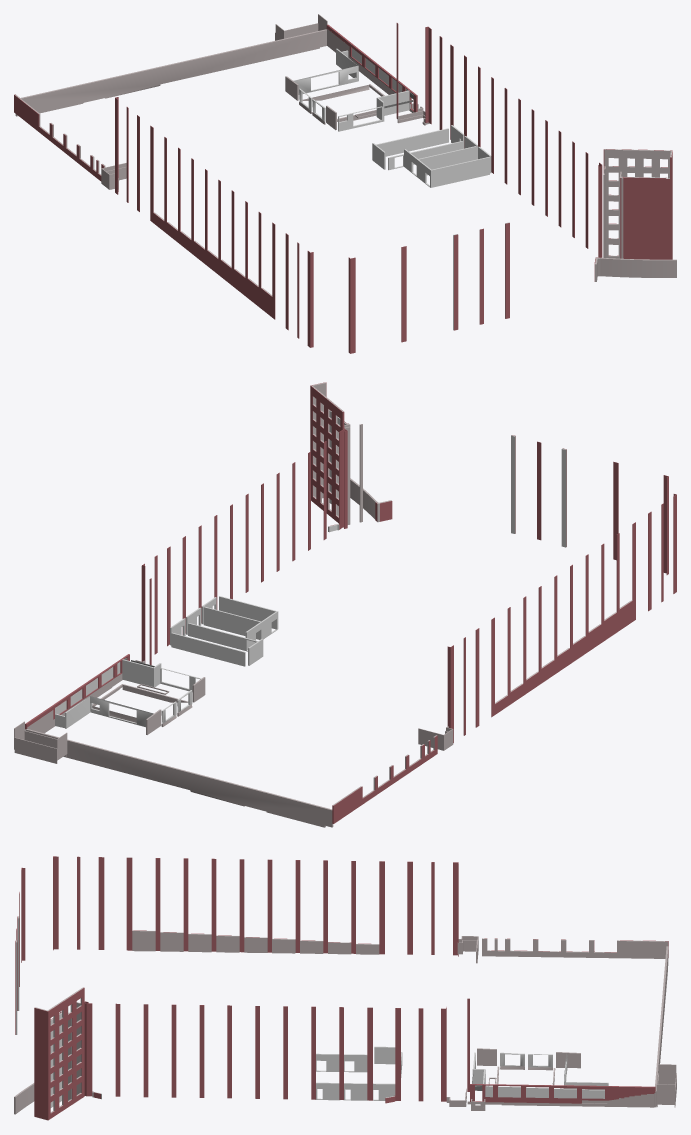
Rendered from 20160125Autodesk_Hospital_Parking Garage_2015_Exist_Garage_-_Ground_Level_IfcWallStandardCase.dae.
3 views of the same model, one above another, from view 1: azimuth 30°, elevation 25°; view 2: azimuth 150°, elevation 25°; view 3: azimuth 270°, elevation 25° (orthographic). The views are drawn at different scales.
Parts seen in each view (by area): view 1: 0GjpF04mX1K8P$TdM8fU7l, 302LR4o954qwRBxpGktIB7, 3yTjO8CpH8GR5SljxLVDxB, 3yTjO8CpH8GR5SljxLVEQd, 0GjpF04mX1K8P$TdM8fU2_, 126ik1xGz4KR32A15Yji4D, 126ik1xGz4KR32A15Yjioq, 0GjpF04mX1K8P$TdM8fU6s, 126ik1xGz4KR32A15YjiDz, 1itcVTZhD87QA6mzuiLzzE, 126ik1xGz4KR32A15Yjink, 2d9m5g6dHDfhPiz88fciy5 (+3 smaller); view 2: 0GjpF04mX1K8P$TdM8fU7l, 3yTjO8CpH8GR5SljxLVDxB, 0GjpF04mX1K8P$TdM8fU2_, 126ik1xGz4KR32A15Yjioq, 126ik1xGz4KR32A15YjiDz, 126ik1xGz4KR32A15Yjink, 126ik1xGz4KR32A15Yji4D, 0GjpF04mX1K8P$TdM8fU6s, 3AZn5tWhrE2hQcxJKqi5LW, 1itcVTZhD87QA6mzuiLzFJ; view 3: 3yTjO8CpH8GR5SljxLVDxB, 0GjpF04mX1K8P$TdM8fU2_, 0GjpF04mX1K8P$TdM8fU6s, 3yTjO8CpH8GR5SljxLVDpZ, 2MCmkCl6P91vux$UwA8eW2, 126ik1xGz4KR32A15Yji6u, 0fm7WLZUT8bAGZt82jGoCo, 0fm7WLZUT8bAGZt82jGoFF, 0GjpF04mX1K8P$TdM8fU7l, 3R0jMzq1zCOAZH9QGT2l$I, 2KtnTJckH2uQtkIHIdQnCN, 3PP3KPmZ16$glfW6EwNEXx (+30 smaller).
Boxes of the visible parts, left/top/right/bottom form: 0GjpF04mX1K8P$TdM8fU7l: left=15, top=29, right=326, bottom=116; 302LR4o954qwRBxpGktIB7: left=623, top=177, right=665, bottom=259; 3yTjO8CpH8GR5SljxLVDxB: left=603, top=149, right=672, bottom=258; 3yTjO8CpH8GR5SljxLVEQd: left=600, top=257, right=676, bottom=277; 0GjpF04mX1K8P$TdM8fU2_: left=14, top=94, right=105, bottom=181; 126ik1xGz4KR32A15Yji4D: left=430, top=156, right=489, bottom=187; 126ik1xGz4KR32A15Yjioq: left=376, top=128, right=448, bottom=156; 0GjpF04mX1K8P$TdM8fU6s: left=326, top=24, right=417, bottom=112; 126ik1xGz4KR32A15YjiDz: left=418, top=146, right=476, bottom=175; 1itcVTZhD87QA6mzuiLzzE: left=293, top=65, right=358, bottom=94; 126ik1xGz4KR32A15Yjink: left=388, top=141, right=463, bottom=170; 2d9m5g6dHDfhPiz88fciy5: left=453, top=234, right=458, bottom=330; 0GjpF04mX1K8P$TdM8fU7l: left=25, top=729, right=333, bottom=827; 3yTjO8CpH8GR5SljxLVDxB: left=310, top=385, right=344, bottom=523; 0GjpF04mX1K8P$TdM8fU2_: left=332, top=735, right=437, bottom=823; 126ik1xGz4KR32A15Yjioq: left=171, top=632, right=245, bottom=666; 126ik1xGz4KR32A15YjiDz: left=203, top=606, right=260, bottom=639; 126ik1xGz4KR32A15Yjink: left=188, top=623, right=257, bottom=651; 126ik1xGz4KR32A15Yji4D: left=219, top=596, right=278, bottom=629; 0GjpF04mX1K8P$TdM8fU6s: left=25, top=654, right=129, bottom=729; 3AZn5tWhrE2hQcxJKqi5LW: left=14, top=737, right=57, bottom=763; 1itcVTZhD87QA6mzuiLzFJ: left=122, top=659, right=154, bottom=687; 3yTjO8CpH8GR5SljxLVDxB: left=46, top=987, right=84, bottom=1120; 0GjpF04mX1K8P$TdM8fU2_: left=482, top=938, right=668, bottom=958; 0GjpF04mX1K8P$TdM8fU6s: left=470, top=1084, right=655, bottom=1103; 3yTjO8CpH8GR5SljxLVDpZ: left=34, top=1007, right=47, bottom=1119; 2MCmkCl6P91vux$UwA8eW2: left=85, top=1003, right=92, bottom=1096; 126ik1xGz4KR32A15Yji6u: left=316, top=1053, right=367, bottom=1072; 0fm7WLZUT8bAGZt82jGoCo: left=126, top=857, right=132, bottom=950; 0fm7WLZUT8bAGZt82jGoFF: left=98, top=857, right=104, bottom=949; 0GjpF04mX1K8P$TdM8fU7l: left=654, top=946, right=668, bottom=1107; 3R0jMzq1zCOAZH9QGT2l$I: left=379, top=861, right=384, bottom=954; 2KtnTJckH2uQtkIHIdQnCN: left=407, top=861, right=412, bottom=954; 3PP3KPmZ16$glfW6EwNEXx: left=441, top=1008, right=446, bottom=1101.
Bounding box in the file's own units: 79.47 × 130 × 24.82.
